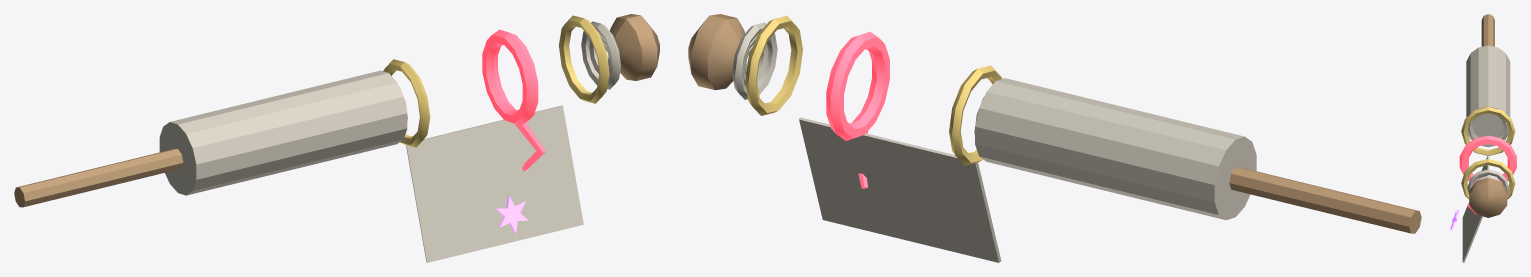
The model's file is scroll.glb.
The picture shows the model from 3 angles, left to right: view 1: azimuth 30°, elevation 25°; view 2: azimuth 150°, elevation 25°; view 3: azimuth 270°, elevation 25°; orthographic projection. The views are drawn at different scales.
Visible parts, largest first — view 1: 036-scroll-pickup/body/bone, 036-scroll-pickup/body/timber, 036-scroll-pickup/body/ruby, 036-scroll-pickup/body/gold, 036-scroll-pickup/body/arcane; view 2: 036-scroll-pickup/body/bone, 036-scroll-pickup/body/timber, 036-scroll-pickup/body/gold, 036-scroll-pickup/body/ruby; view 3: 036-scroll-pickup/body/bone, 036-scroll-pickup/body/timber, 036-scroll-pickup/body/gold, 036-scroll-pickup/body/ruby, 036-scroll-pickup/body/arcane.
Part boxes in pixels (x1,y1,x2,y2): 036-scroll-pickup/body/bone: [159, 21, 620, 262]; 036-scroll-pickup/body/timber: [14, 14, 659, 207]; 036-scroll-pickup/body/ruby: [482, 29, 545, 171]; 036-scroll-pickup/body/gold: [383, 15, 609, 147]; 036-scroll-pickup/body/arcane: [495, 195, 528, 233]; 036-scroll-pickup/body/bone: [732, 22, 1256, 262]; 036-scroll-pickup/body/timber: [688, 14, 1421, 233]; 036-scroll-pickup/body/gold: [745, 15, 1002, 165]; 036-scroll-pickup/body/ruby: [826, 32, 889, 188]; 036-scroll-pickup/body/bone: [1462, 45, 1510, 262]; 036-scroll-pickup/body/timber: [1469, 14, 1507, 217]; 036-scroll-pickup/body/gold: [1461, 107, 1515, 199]; 036-scroll-pickup/body/ruby: [1459, 135, 1516, 214]; 036-scroll-pickup/body/arcane: [1450, 209, 1459, 229].
Size of the model in its own units: 1.2 by 0.3434 by 0.1846.
